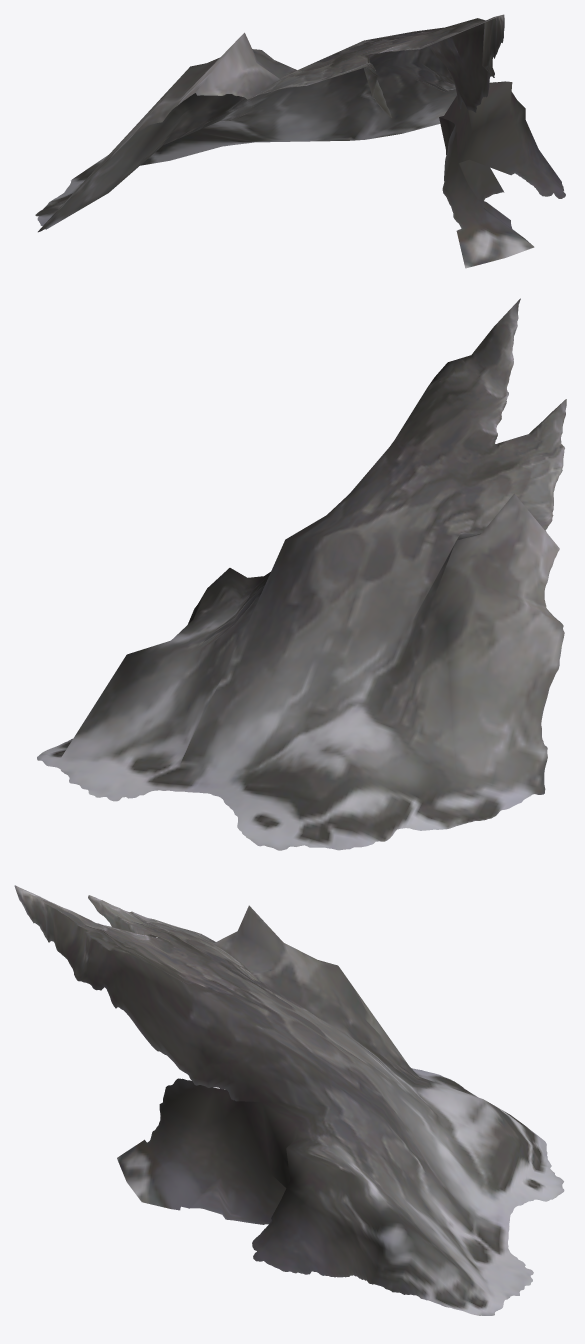
The model's file is rzjd_shitoushan_04.FBX.
The picture shows the model from 3 angles, top to bottom: view 1: azimuth 30°, elevation 25°; view 2: azimuth 150°, elevation 25°; view 3: azimuth 270°, elevation 25°; orthographic projection. The views are drawn at different scales.
Parts seen in each view (by area): view 1: rzjd_shitoushan_04; view 2: rzjd_shitoushan_04; view 3: rzjd_shitoushan_04.
Part boxes in pixels (box(x1,y1,x2,y2)): rzjd_shitoushan_04: box(35, 14, 565, 268); rzjd_shitoushan_04: box(37, 298, 566, 850); rzjd_shitoushan_04: box(14, 885, 564, 1315).
Bounding box in the file's own units: 137 × 146 × 96.27.
